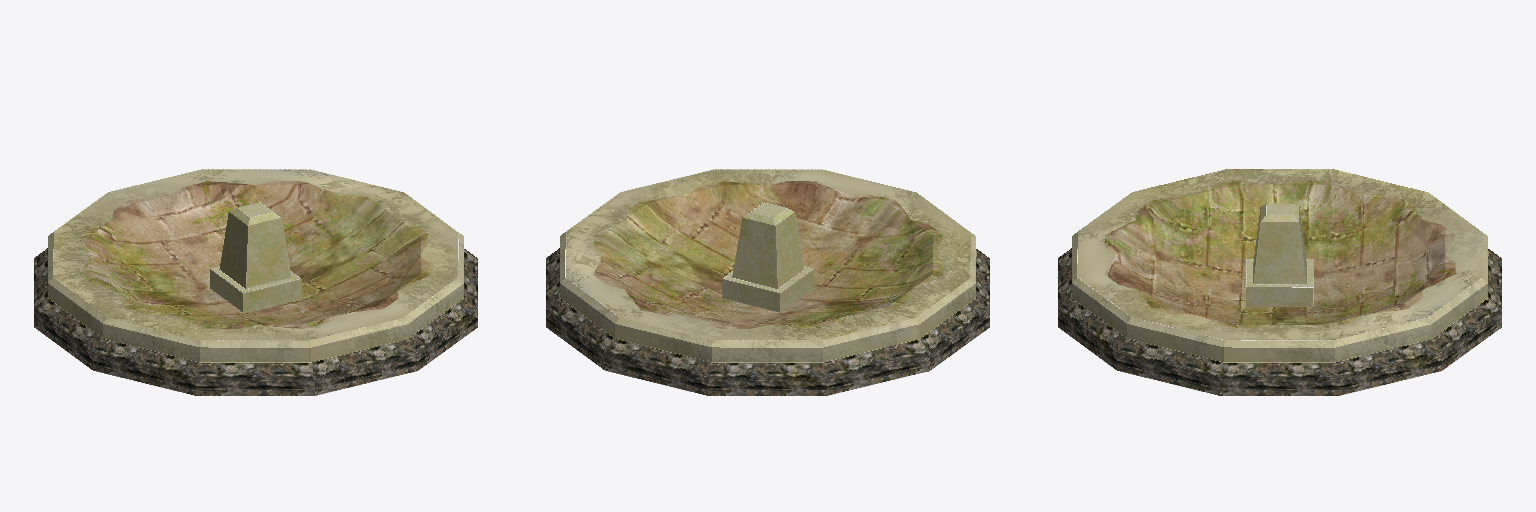
The picture shows the model from 3 angles: view 1: azimuth 30°, elevation 25°; view 2: azimuth 150°, elevation 25°; view 3: azimuth 270°, elevation 25°; orthographic projection.
Size of the model in its own units: 1.84 by 0.4211 by 1.84.
Materials: 1 (1 with a texture image).